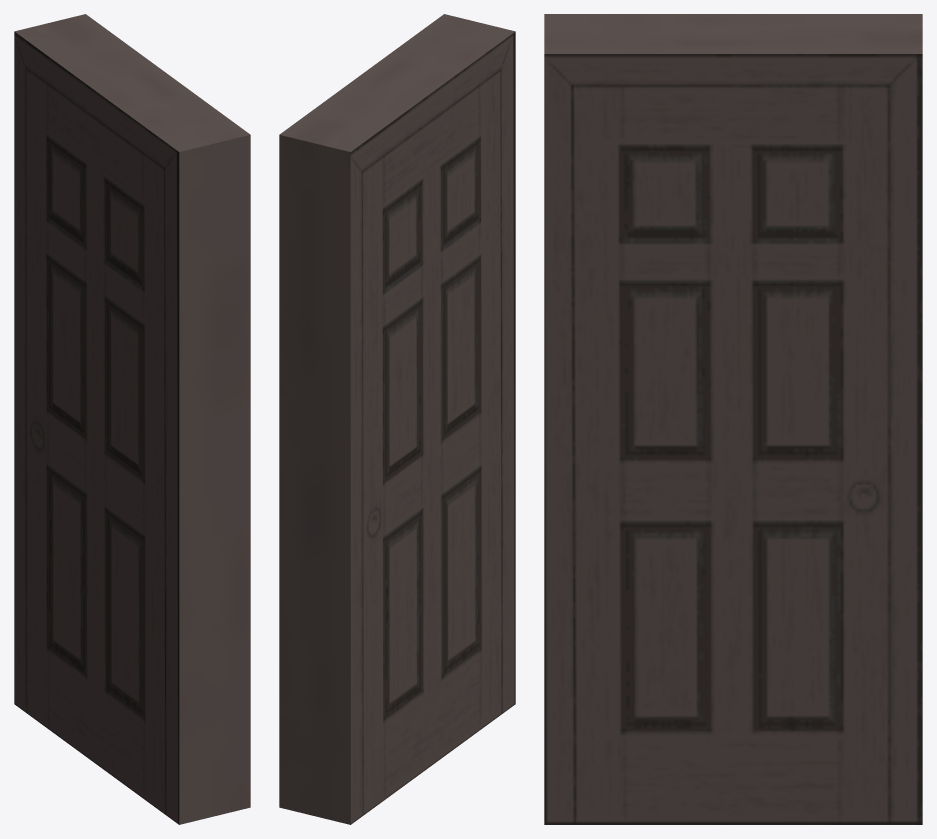
Rendered from door1.fbx.
3 renders of one model, left to right at view 1: azimuth 30°, elevation 25°; view 2: azimuth 150°, elevation 25°; view 3: azimuth 270°, elevation 25°, orthographic. The views are drawn at different scales.
Visible parts, largest first — view 1: Door2.001; view 2: Door2.001; view 3: Door2.001.
Boxes of the visible parts, x1,y1,x2,y2 form: Door2.001: (14,14,250,824); Door2.001: (279,14,515,824); Door2.001: (544,14,922,824).
Bounding box in the file's own units: 20 × 180 × 80.
Materials: 1 (1 with a texture image).
